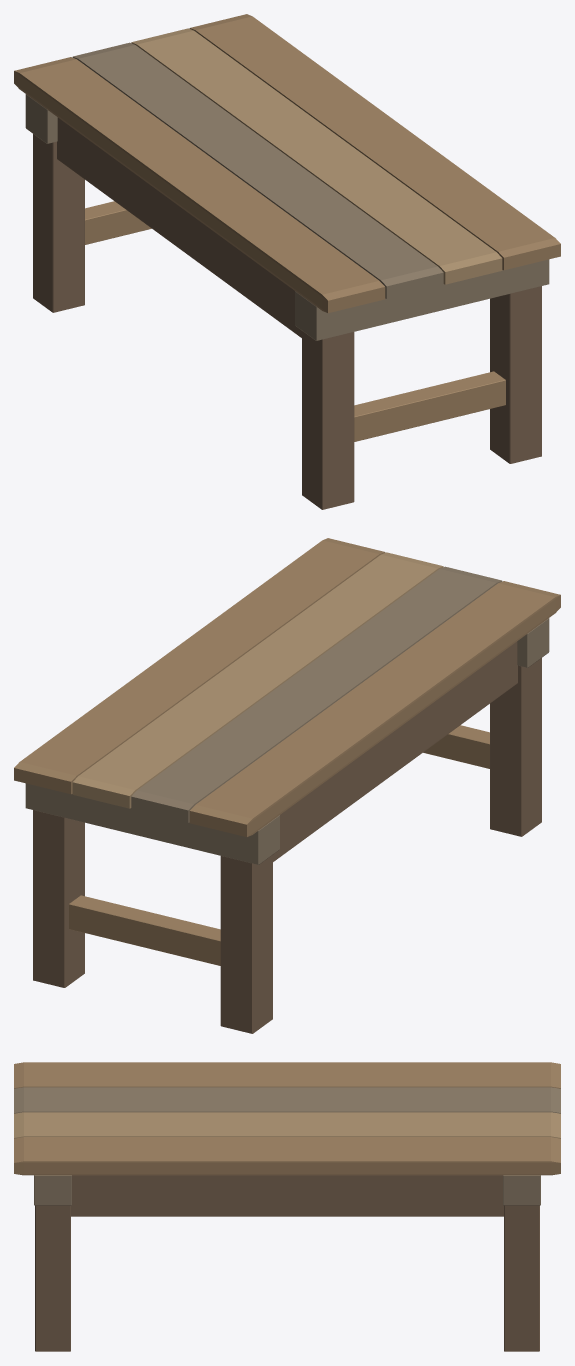
Rendered from HandoffBench.glb.
The picture shows the model from 3 angles, top to bottom: view 1: azimuth 30°, elevation 25°; view 2: azimuth 150°, elevation 25°; view 3: azimuth 270°, elevation 25°; orthographic projection. The views are drawn at different scales.
Parts seen in each view (by area): view 1: HandoffBench; view 2: HandoffBench; view 3: HandoffBench.
Part boxes in pixels (<box>): HandoffBench: <box>14,14,560,509</box>; HandoffBench: <box>14,538,560,1033</box>; HandoffBench: <box>14,1062,560,1351</box>.
Size of the model in its own units: 0.72 by 0.655 by 1.68.
